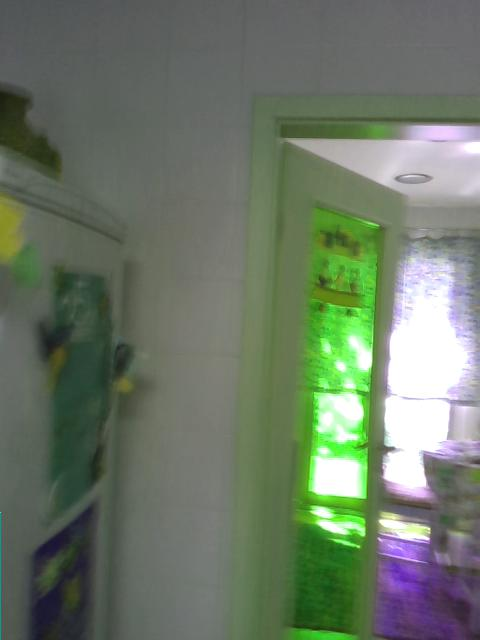semi_door: (226, 91, 479, 639)
